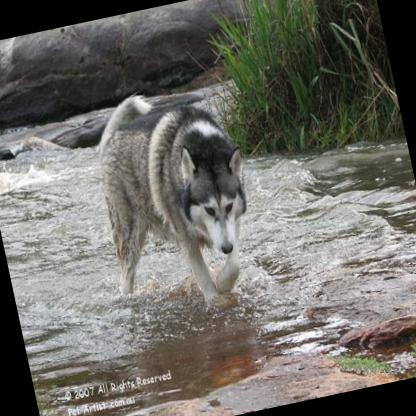Siberian_husky: (78, 71, 270, 329)
